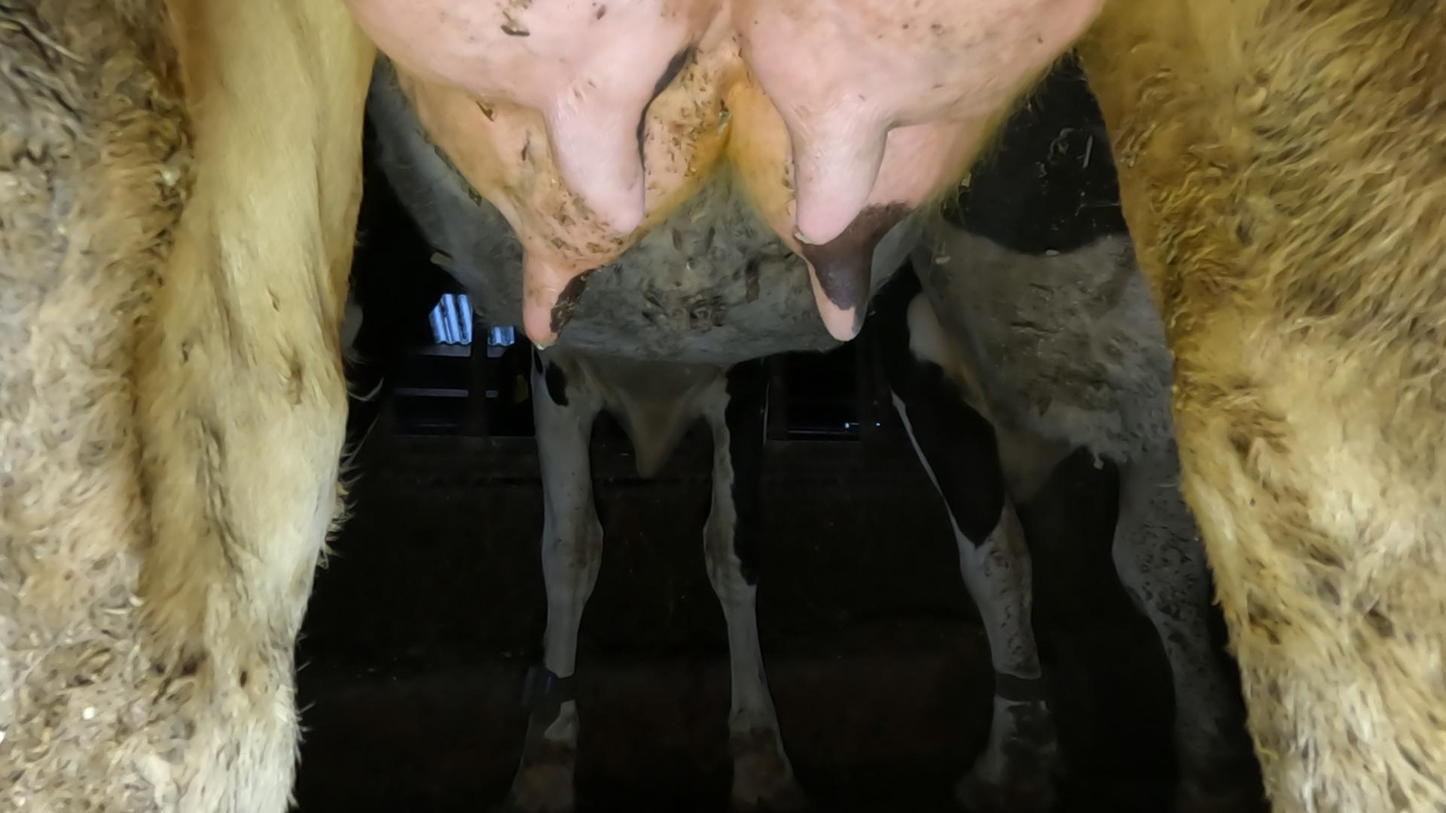Zitze: (516, 42, 680, 242), (775, 61, 909, 245), (806, 204, 876, 363), (512, 240, 589, 356)
